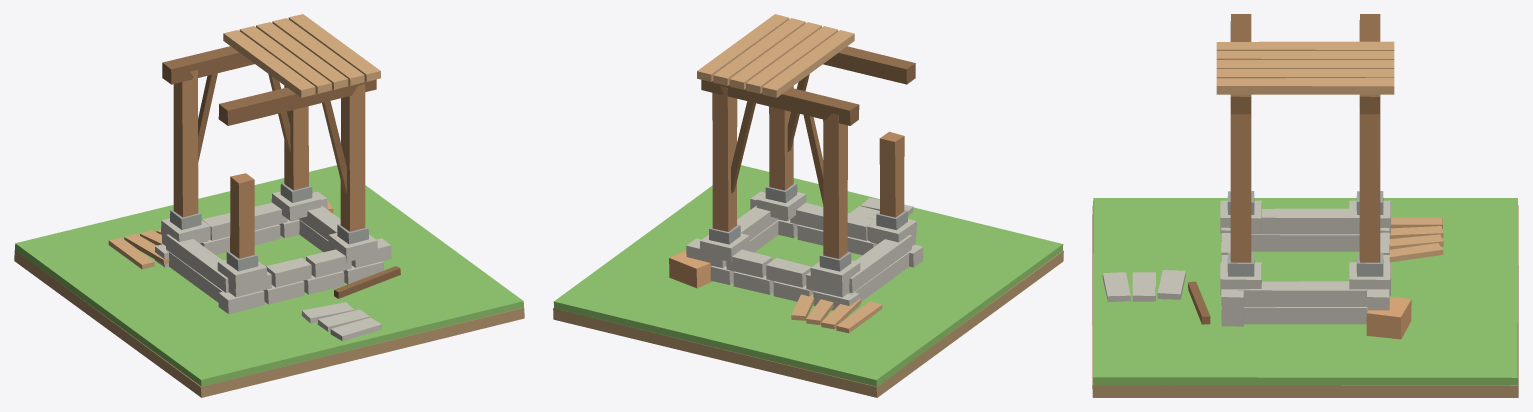
Rendered from tower_l02_damaged_LOD2.glb.
3 renders of one model, left to right at view 1: azimuth 30°, elevation 25°; view 2: azimuth 150°, elevation 25°; view 3: azimuth 270°, elevation 25°, orthographic. The views are drawn at different scales.
Parts seen in each view (by area): view 1: tower_l02_grass_tile_tower_l02_damaged_LOD2_tmp, tower_l02_earth_tile_tower_l02_damaged_LOD2_tmp, post_-0.61_0.54_tower_l02_damaged_LOD2_tmp, post_0.61_-0.54_tower_l02_damaged_LOD2_tmp, deck_bearer_-0.54_tower_l02_damaged_LOD2_tmp, post_-0.61_-0.54_tower_l02_damaged_LOD2_tmp, deck_bearer_0.54_tower_l02_damaged_LOD2_tmp, deck_board_4_tower_l02_damaged_LOD2_tmp, post_0.61_0.54_tower_l02_damaged_LOD2_tmp, stone_return_1_-0.72_tower_l02_damaged_LOD2_tmp, deck_board_5_tower_l02_damaged_LOD2_tmp, deck_board_6_tower_l02_damaged_LOD2_tmp (+27 smaller); view 2: tower_l02_grass_tile_tower_l02_damaged_LOD2_tmp, tower_l02_earth_tile_tower_l02_damaged_LOD2_tmp, post_-0.61_0.54_tower_l02_damaged_LOD2_tmp, post_0.61_0.54_tower_l02_damaged_LOD2_tmp, deck_bearer_0.54_tower_l02_damaged_LOD2_tmp, post_-0.61_-0.54_tower_l02_damaged_LOD2_tmp, deck_bearer_-0.54_tower_l02_damaged_LOD2_tmp, deck_board_4_tower_l02_damaged_LOD2_tmp, post_0.61_-0.54_tower_l02_damaged_LOD2_tmp, stone_return_1_-0.72_tower_l02_damaged_LOD2_tmp, deck_board_5_tower_l02_damaged_LOD2_tmp, deck_board_6_tower_l02_damaged_LOD2_tmp (+23 smaller); view 3: tower_l02_grass_tile_tower_l02_damaged_LOD2_tmp, tower_l02_earth_tile_tower_l02_damaged_LOD2_tmp, post_0.61_0.54_tower_l02_damaged_LOD2_tmp, post_0.61_-0.54_tower_l02_damaged_LOD2_tmp, deck_board_8_tower_l02_damaged_LOD2_tmp, stone_return_1_0.72_tower_l02_damaged_LOD2_tmp, stone_return_1_-0.72_tower_l02_damaged_LOD2_tmp, stone_return_0_0.72_tower_l02_damaged_LOD2_tmp, stone_return_0_-0.72_tower_l02_damaged_LOD2_tmp, deck_board_4_tower_l02_damaged_LOD2_tmp, deck_board_7_tower_l02_damaged_LOD2_tmp, deck_board_5_tower_l02_damaged_LOD2_tmp (+20 smaller).
Boxes of the visible parts, x1,y1,x2,y2 form: tower_l02_grass_tile_tower_l02_damaged_LOD2_tmp: (15, 165, 523, 386); tower_l02_earth_tile_tower_l02_damaged_LOD2_tmp: (14, 250, 524, 397); post_-0.61_0.54_tower_l02_damaged_LOD2_tmp: (173, 70, 198, 217); post_0.61_-0.54_tower_l02_damaged_LOD2_tmp: (340, 84, 365, 231); deck_bearer_-0.54_tower_l02_damaged_LOD2_tmp: (218, 79, 376, 125); post_-0.61_-0.54_tower_l02_damaged_LOD2_tmp: (230, 173, 254, 258); deck_bearer_0.54_tower_l02_damaged_LOD2_tmp: (162, 46, 254, 84); deck_board_4_tower_l02_damaged_LOD2_tmp: (223, 30, 315, 97); post_0.61_0.54_tower_l02_damaged_LOD2_tmp: (284, 85, 308, 190); stone_return_1_-0.72_tower_l02_damaged_LOD2_tmp: (166, 234, 228, 292); deck_board_5_tower_l02_damaged_LOD2_tmp: (239, 26, 331, 93); deck_board_6_tower_l02_damaged_LOD2_tmp: (256, 22, 348, 89); tower_l02_grass_tile_tower_l02_damaged_LOD2_tmp: (553, 165, 1063, 386); tower_l02_earth_tile_tower_l02_damaged_LOD2_tmp: (553, 250, 1063, 397); post_-0.61_0.54_tower_l02_damaged_LOD2_tmp: (823, 113, 847, 258); post_0.61_0.54_tower_l02_damaged_LOD2_tmp: (712, 86, 737, 231); deck_bearer_0.54_tower_l02_damaged_LOD2_tmp: (701, 80, 859, 125); post_-0.61_-0.54_tower_l02_damaged_LOD2_tmp: (879, 131, 904, 217); deck_bearer_-0.54_tower_l02_damaged_LOD2_tmp: (823, 46, 915, 84); deck_board_4_tower_l02_damaged_LOD2_tmp: (762, 30, 854, 97); post_0.61_-0.54_tower_l02_damaged_LOD2_tmp: (769, 86, 793, 190); stone_return_1_-0.72_tower_l02_damaged_LOD2_tmp: (849, 235, 911, 293); deck_board_5_tower_l02_damaged_LOD2_tmp: (746, 26, 838, 93); deck_board_6_tower_l02_damaged_LOD2_tmp: (729, 22, 821, 89); tower_l02_grass_tile_tower_l02_damaged_LOD2_tmp: (1093, 198, 1517, 385); tower_l02_earth_tile_tower_l02_damaged_LOD2_tmp: (1092, 205, 1518, 397); post_0.61_0.54_tower_l02_damaged_LOD2_tmp: (1359, 108, 1380, 262); post_0.61_-0.54_tower_l02_damaged_LOD2_tmp: (1230, 107, 1251, 262); deck_board_8_tower_l02_damaged_LOD2_tmp: (1216, 78, 1394, 94); stone_return_1_0.72_tower_l02_damaged_LOD2_tmp: (1237, 281, 1372, 306); stone_return_1_-0.72_tower_l02_damaged_LOD2_tmp: (1251, 208, 1359, 234); stone_return_0_0.72_tower_l02_damaged_LOD2_tmp: (1243, 307, 1366, 324); stone_return_0_-0.72_tower_l02_damaged_LOD2_tmp: (1251, 234, 1359, 251); deck_board_4_tower_l02_damaged_LOD2_tmp: (1216, 41, 1394, 50); deck_board_7_tower_l02_damaged_LOD2_tmp: (1216, 69, 1394, 78); deck_board_5_tower_l02_damaged_LOD2_tmp: (1216, 51, 1394, 59).
Bounding box in the file's own units: 3.57 × 2.43 × 3.57.
